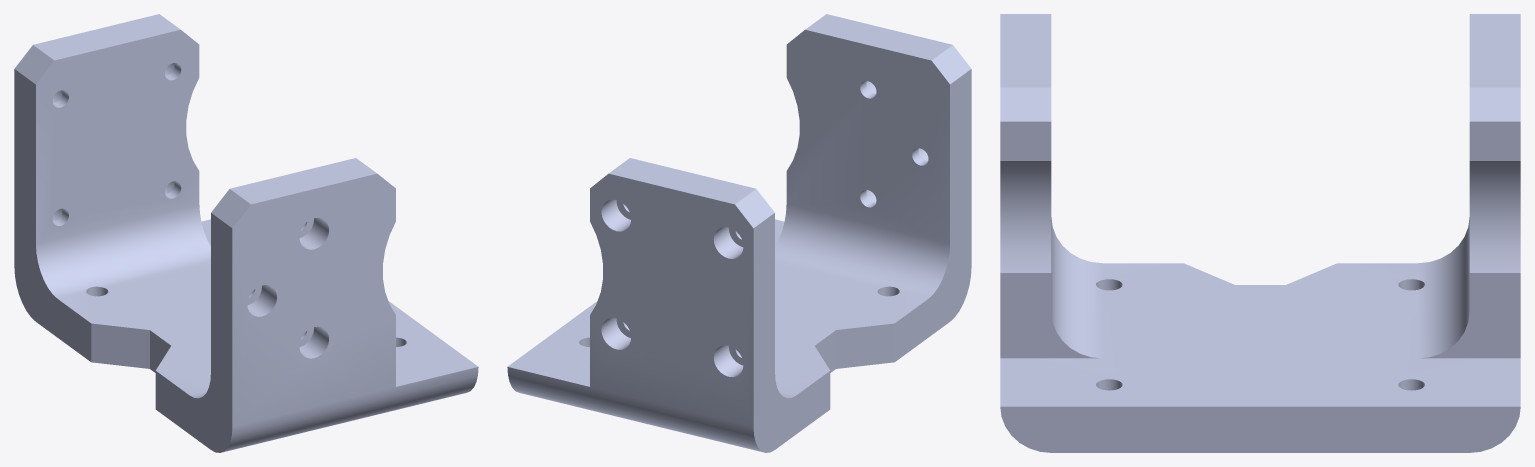
3 views of the same model, side by side, from view 1: azimuth 30°, elevation 25°; view 2: azimuth 150°, elevation 25°; view 3: azimuth 270°, elevation 25° (orthographic). The views are drawn at different scales.
Parts seen in each view (by area): view 1: node0; view 2: node0; view 3: node0.
Part boxes in pixels (box(x1,y1,x2,y2)): node0: box(14, 14, 478, 452); node0: box(507, 14, 971, 452); node0: box(1000, 14, 1520, 452).
Size of the model in its own units: 0.0331 by 0.033 by 0.0508.
